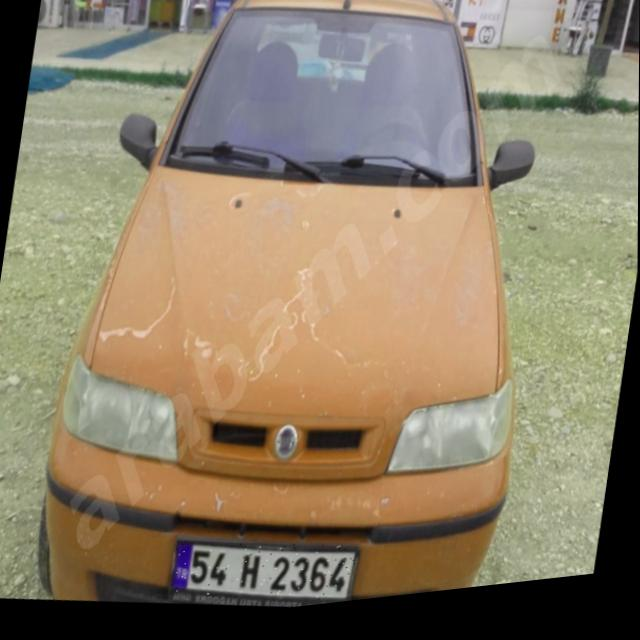license_plate: (170, 529, 359, 625)
